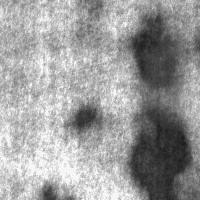patches: (139, 20, 200, 136), (129, 106, 190, 200), (131, 14, 179, 90), (71, 104, 98, 130)
